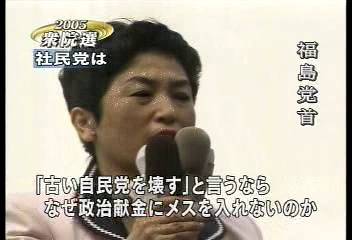man: (57, 19, 202, 176)
